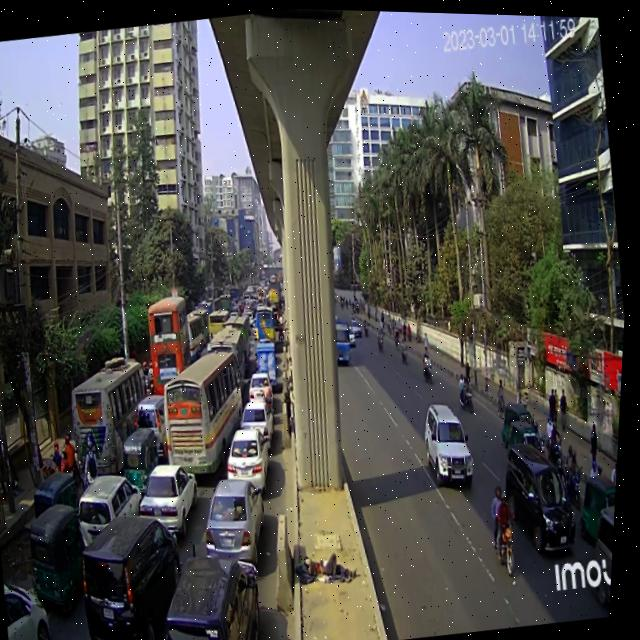cng: (28, 508, 108, 613), (118, 424, 174, 506), (577, 460, 622, 541), (497, 387, 545, 440), (512, 410, 546, 460)
